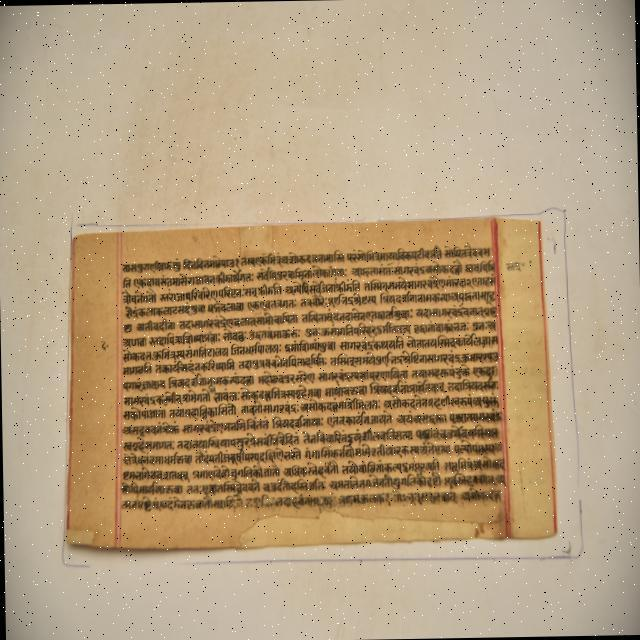text_paragraph: (65, 217, 555, 546)
